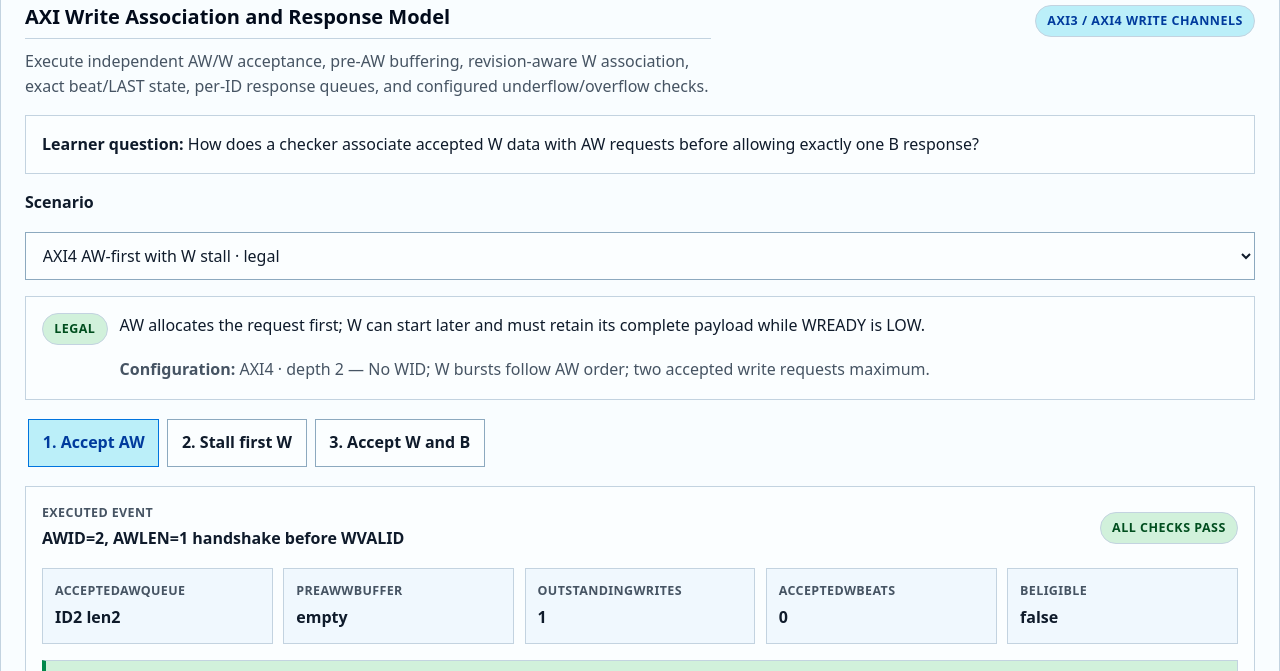
Test: CheckerModel › selects an intentional negative scenario and exposes the failed protocol result
The width and height of the screenshot is (1280, 671).
Select "Unexpected B response · negative" in the dropdown labelled "Scenario" at x=640, y=256, box top-left (25, 232), bottom-right (1255, 280)
(page scrolled)
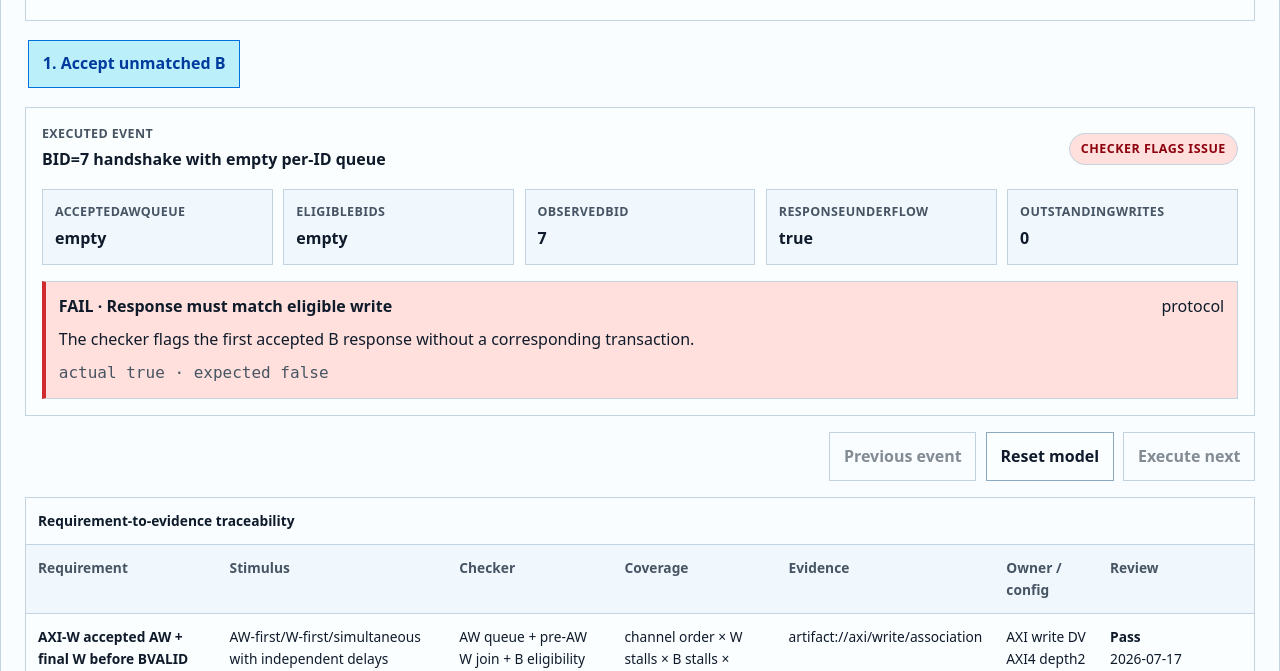
Expected: the text "Checker flags issue" is shown, top-left (1069, 133), bottom-right (1238, 165)
Expected: the text "FAIL · Response must match eligible write" is shown, top-left (59, 294), bottom-right (392, 320)
Expected: the text "first accepted B response without a corresponding transaction" is shown, top-left (59, 328), bottom-right (694, 350)
